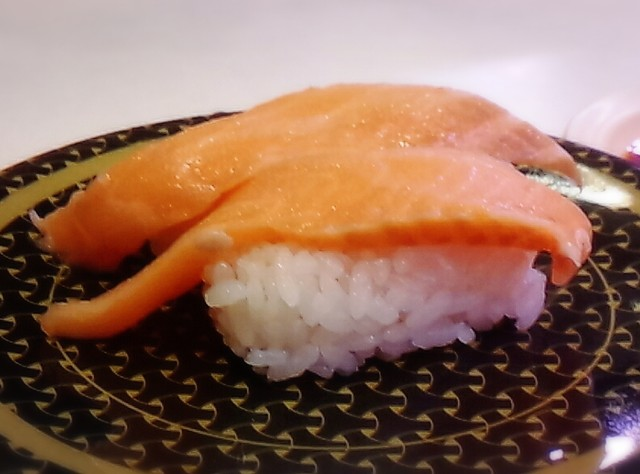salmon: (181, 148, 546, 367)
